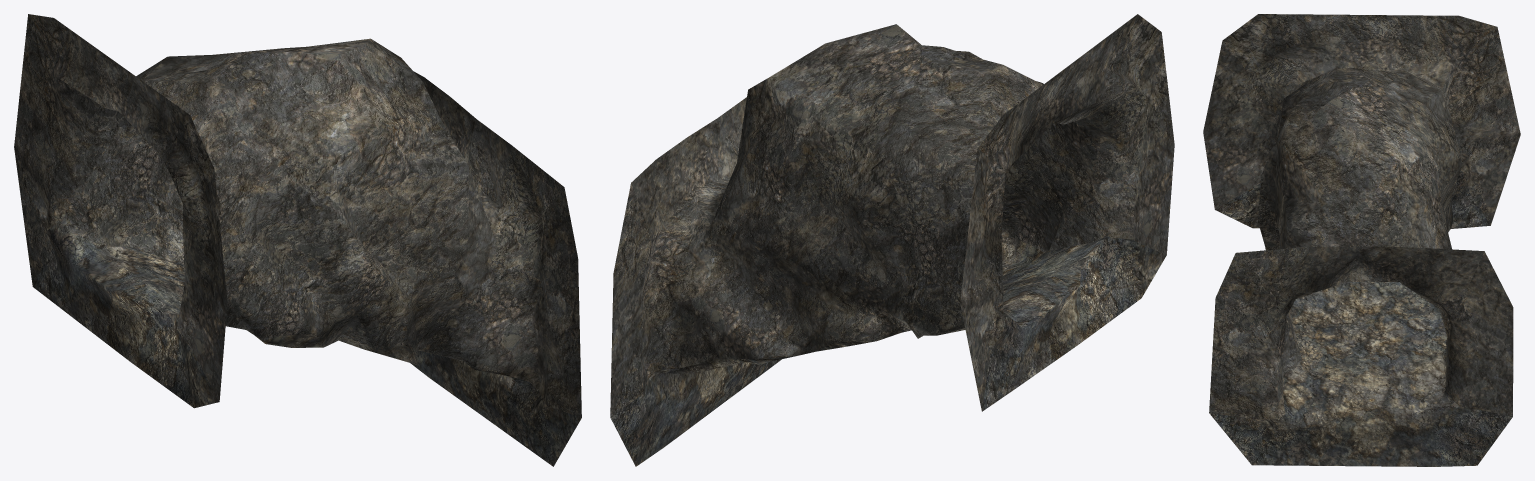
The model's file is Cave20.fbx.
3 renders of one model, left to right at view 1: azimuth 30°, elevation 25°; view 2: azimuth 150°, elevation 25°; view 3: azimuth 270°, elevation 25°, orthographic. The views are drawn at different scales.
Visible parts, largest first — view 1: Cave20; view 2: Cave20; view 3: Cave20.
Part boxes in pixels (left/top/right/bottom): Cave20: left=14, top=14, right=581, bottom=466; Cave20: left=610, top=14, right=1174, bottom=466; Cave20: left=1203, top=14, right=1520, bottom=466.
Bounding box in the file's own units: 65.36 × 72.57 × 64.57.
